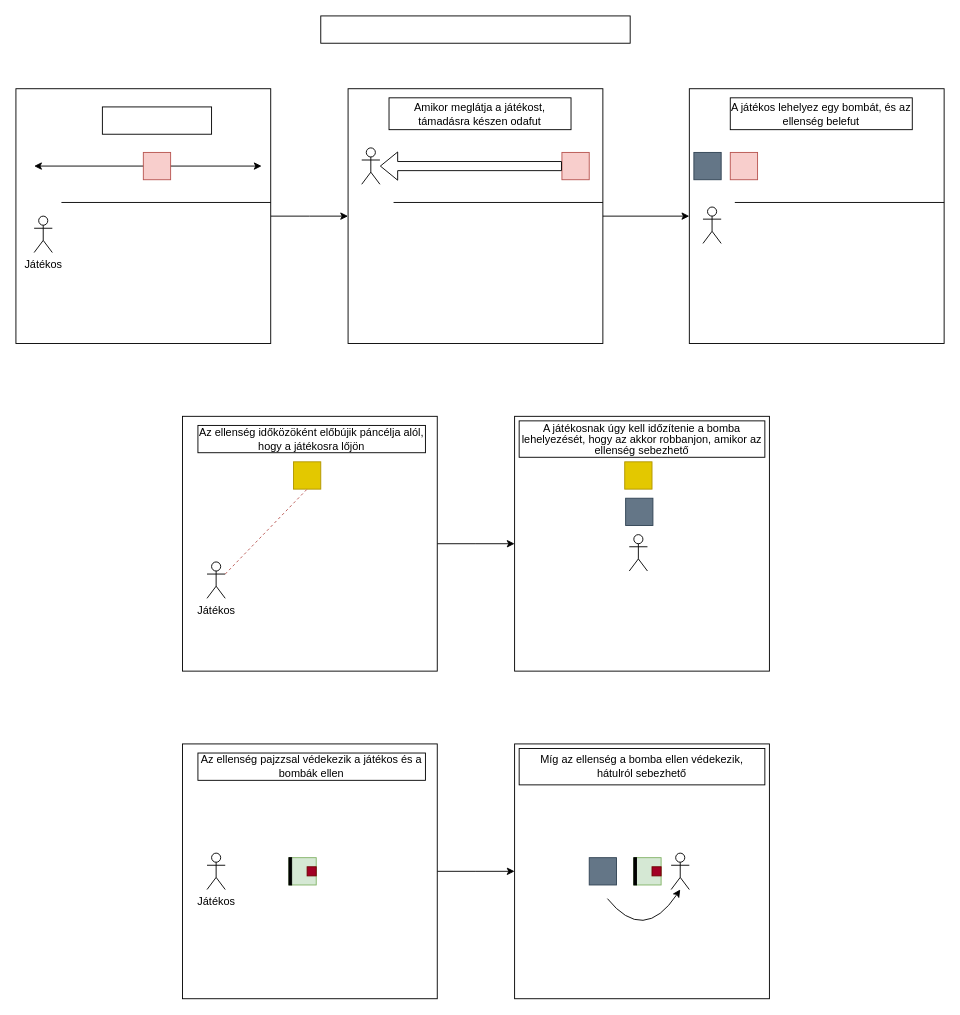
Some shapes in this 960 by 1015 pixel diagram are drawn without their labels. Here are the shapes that lost their labels. From the top down, the box of each, then its label:
(320, 15, 630, 43): Különböző ellenségek különböző módon reagálnak a játékosra
(101, 106, 212, 134): Az ellenség oda-vissza halad
